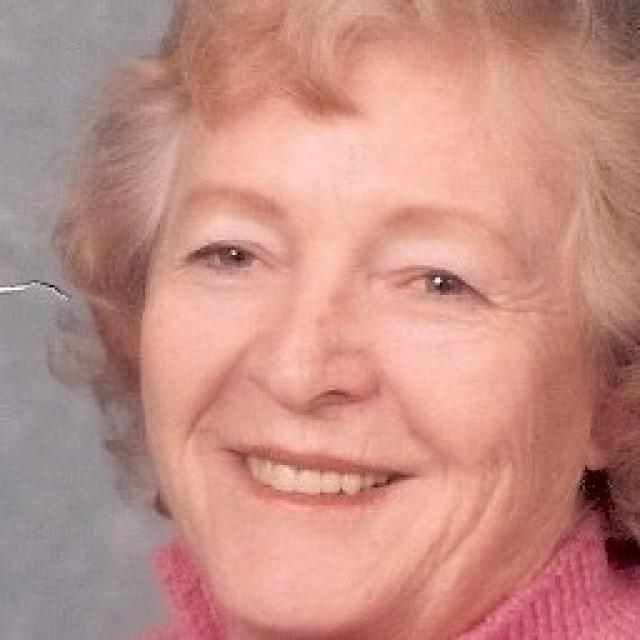Normal: (137, 42, 603, 638)
